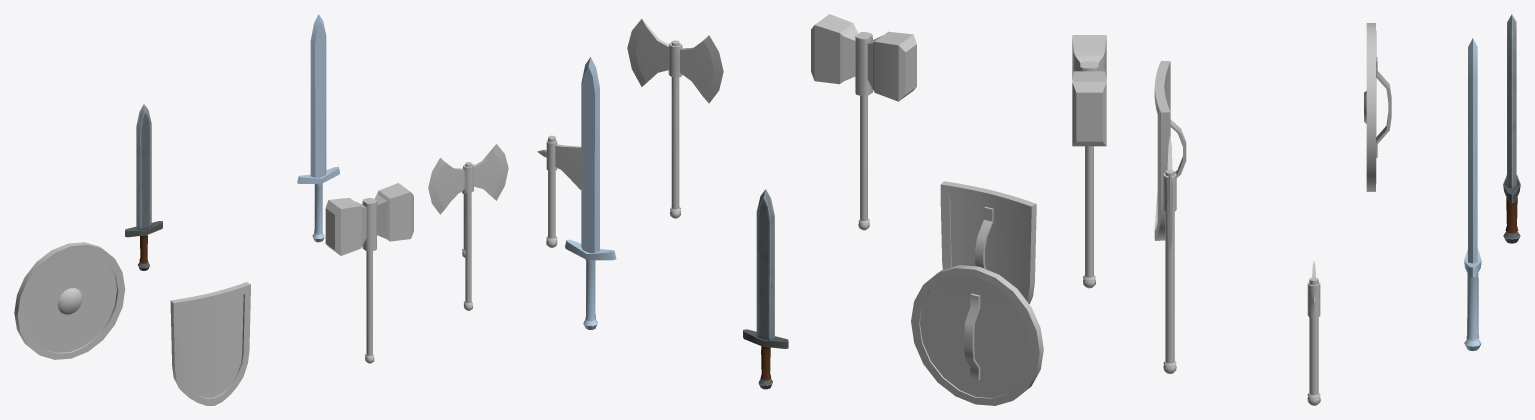
Rendered from set.fbx.
3 views of the same model, side by side, from view 1: azimuth 30°, elevation 25°; view 2: azimuth 150°, elevation 25°; view 3: azimuth 270°, elevation 25° (orthographic). The views are drawn at different scales.
Visible parts, largest first — view 1: shield_round, shield_curved, hammer_two_handed, axe_two_handed, sword_two_handed, sword_one_handed; view 2: shield_round, shield_curved, hammer_two_handed, axe_two_handed, sword_two_handed, sword_one_handed, axe_one_handed; view 3: hammer_two_handed, sword_two_handed, sword_one_handed, shield_curved, axe_two_handed, shield_round, axe_one_handed.
Boxes of the visible parts, x1=… form: shield_round: x1=14, y1=242, x2=125, y2=359; shield_curved: x1=170, y1=282, x2=250, y2=405; hammer_two_handed: x1=325, y1=183, x2=413, y2=363; axe_two_handed: x1=428, y1=144, x2=508, y2=310; sword_two_handed: x1=297, y1=14, x2=339, y2=242; sword_one_handed: x1=125, y1=104, x2=162, y2=270; shield_round: x1=911, y1=265, x2=1043, y2=405; shield_curved: x1=940, y1=181, x2=1036, y2=303; hammer_two_handed: x1=811, y1=14, x2=916, y2=230; axe_two_handed: x1=627, y1=19, x2=723, y2=218; sword_two_handed: x1=565, y1=57, x2=616, y2=329; sword_one_handed: x1=743, y1=189, x2=788, y2=389; axe_one_handed: x1=537, y1=135, x2=581, y2=247; hammer_two_handed: x1=1072, y1=35, x2=1106, y2=288; sword_two_handed: x1=1464, y1=38, x2=1481, y2=350; sword_one_handed: x1=1503, y1=14, x2=1520, y2=243; shield_curved: x1=1154, y1=60, x2=1186, y2=240; axe_two_handed: x1=1163, y1=136, x2=1176, y2=373; shield_round: x1=1364, y1=23, x2=1391, y2=191; axe_one_handed: x1=1307, y1=261, x2=1320, y2=405.
Bounding box in the file's own units: 312 × 171 × 200.
